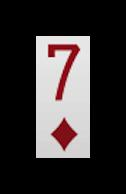7D: (42, 41, 84, 155)
